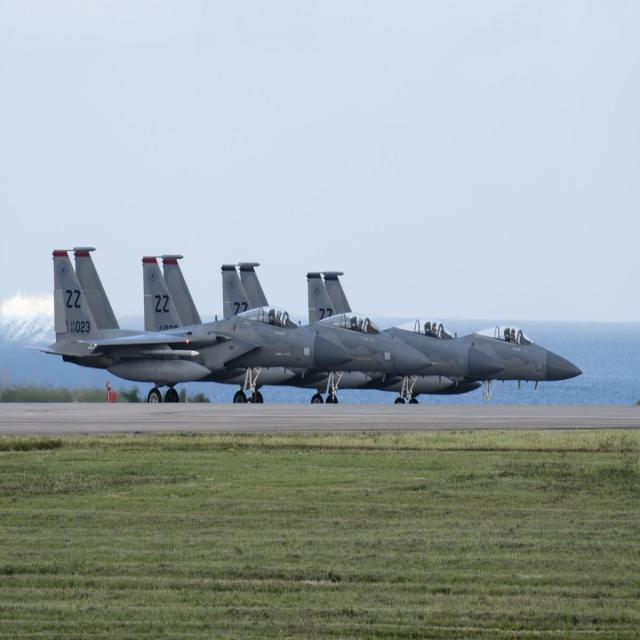MIL_Plane: (22, 244, 355, 402), (140, 253, 438, 403), (219, 261, 507, 404), (297, 270, 584, 404)
